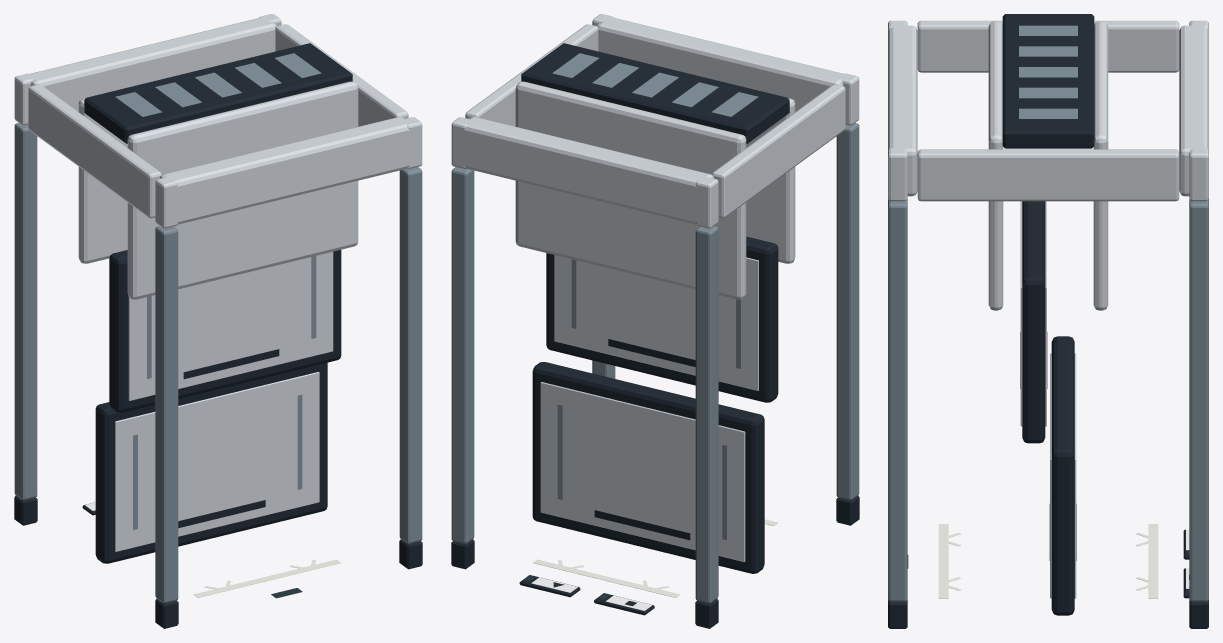
The model's file is PowerGate.fbx.
3 views of the same model, side by side, from view 1: azimuth 30°, elevation 25°; view 2: azimuth 150°, elevation 25°; view 3: azimuth 270°, elevation 25° (orthographic). The views are drawn at different scales.
Visible parts, largest first — view 1: FrameAndCassette, LowerPanelMesh, UpperPanelMesh, CornerFeet, ClosedMark; view 2: FrameAndCassette, LowerPanelMesh, UpperPanelMesh, CornerFeet, ClosedMark, SourceBadge02_Identity, SourceBadgeTemplate_Identity; view 3: FrameAndCassette, LowerPanelMesh, UpperPanelMesh, ClosedMark, CornerFeet.
Boxes of the visible parts, box(x1,y1,x2,y2) form: FrameAndCassette: box(14, 14, 422, 603); LowerPanelMesh: box(95, 362, 327, 563); UpperPanelMesh: box(109, 250, 341, 412); CornerFeet: box(14, 496, 422, 628); ClosedMark: box(193, 559, 340, 597); FrameAndCassette: box(451, 14, 859, 603); LowerPanelMesh: box(532, 362, 764, 573); UpperPanelMesh: box(546, 236, 778, 402); CornerFeet: box(451, 496, 859, 628); ClosedMark: box(533, 519, 777, 597); SourceBadge02_Identity: box(519, 575, 580, 597); SourceBadgeTemplate_Identity: box(594, 593, 654, 615); FrameAndCassette: box(888, 14, 1208, 601); LowerPanelMesh: box(1049, 336, 1076, 615); UpperPanelMesh: box(1020, 201, 1047, 443); ClosedMark: box(938, 524, 1158, 598); CornerFeet: box(888, 599, 1208, 628).
Size of the model in its own units: 0.98 by 1.66 by 0.98.
